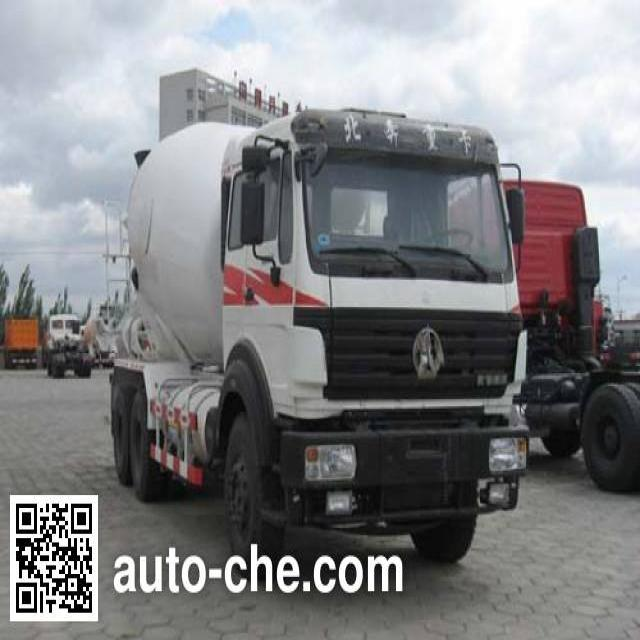Mixer Truck: (107, 105, 531, 572)
